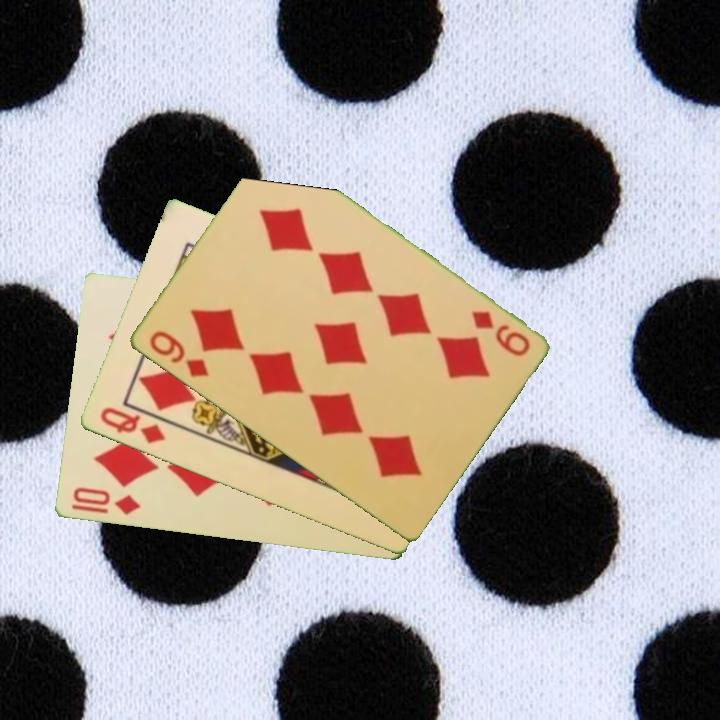10d: (69, 484, 143, 519)
9d: (145, 327, 211, 381), (467, 307, 533, 360)
Qd: (96, 403, 168, 447)
